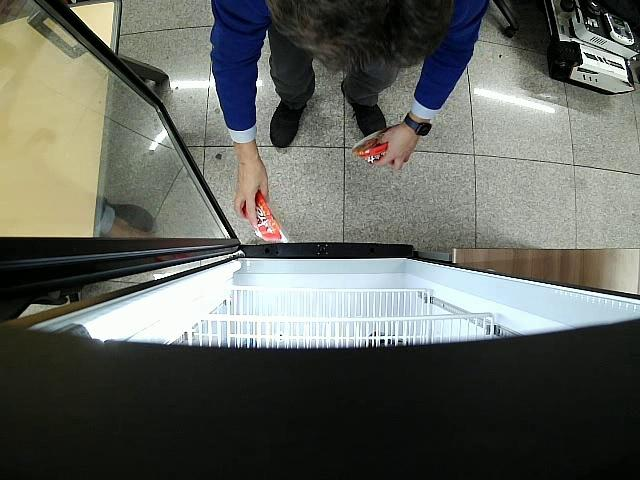00_hand: (234, 160, 270, 229), (372, 124, 416, 170)
10_wangTtukkeong: (243, 188, 289, 244), (353, 129, 394, 164)
